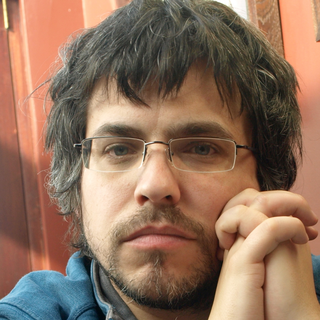eye: (175, 136, 226, 166), (95, 138, 142, 167)
